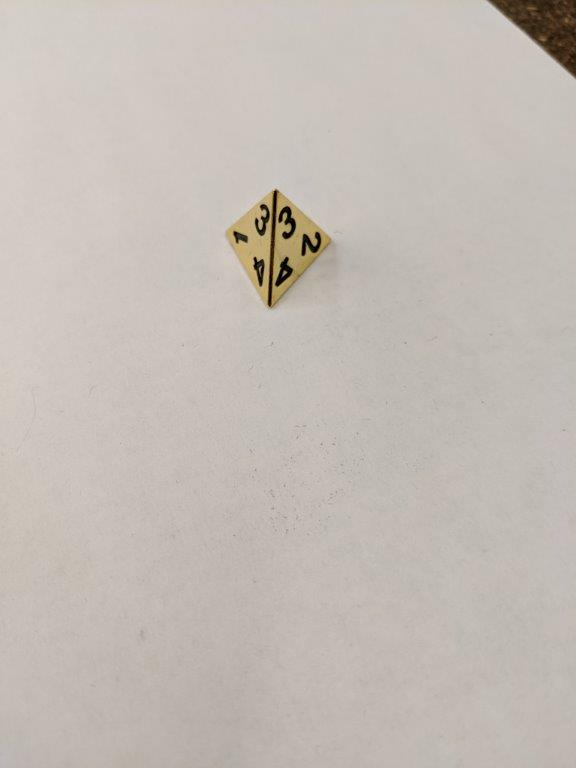d4-3: (223, 186, 337, 307)
